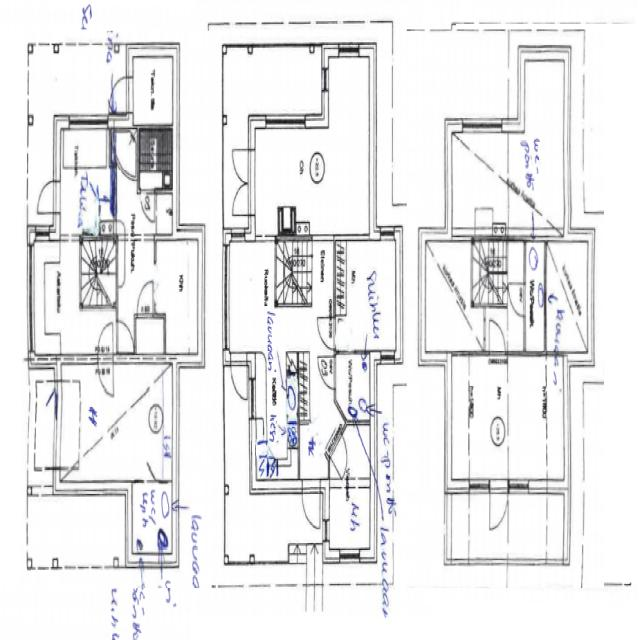door: (329, 432, 353, 481), (89, 481, 109, 536), (490, 479, 508, 532), (302, 479, 320, 530), (109, 77, 133, 113), (230, 349, 247, 396), (38, 181, 61, 213), (98, 322, 113, 364), (489, 318, 505, 357), (307, 67, 328, 96), (507, 284, 526, 316), (318, 358, 337, 389), (137, 281, 153, 317), (319, 318, 336, 348), (134, 235, 148, 271), (144, 453, 158, 486), (140, 188, 154, 220)
